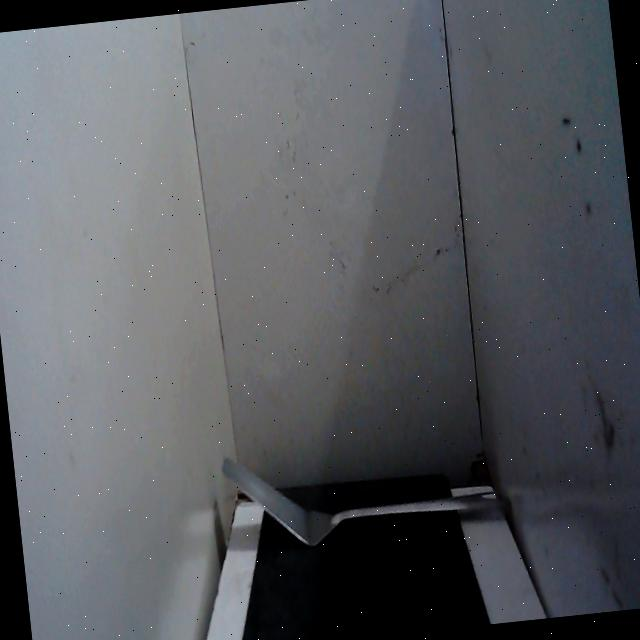metal: (210, 412, 532, 578)
